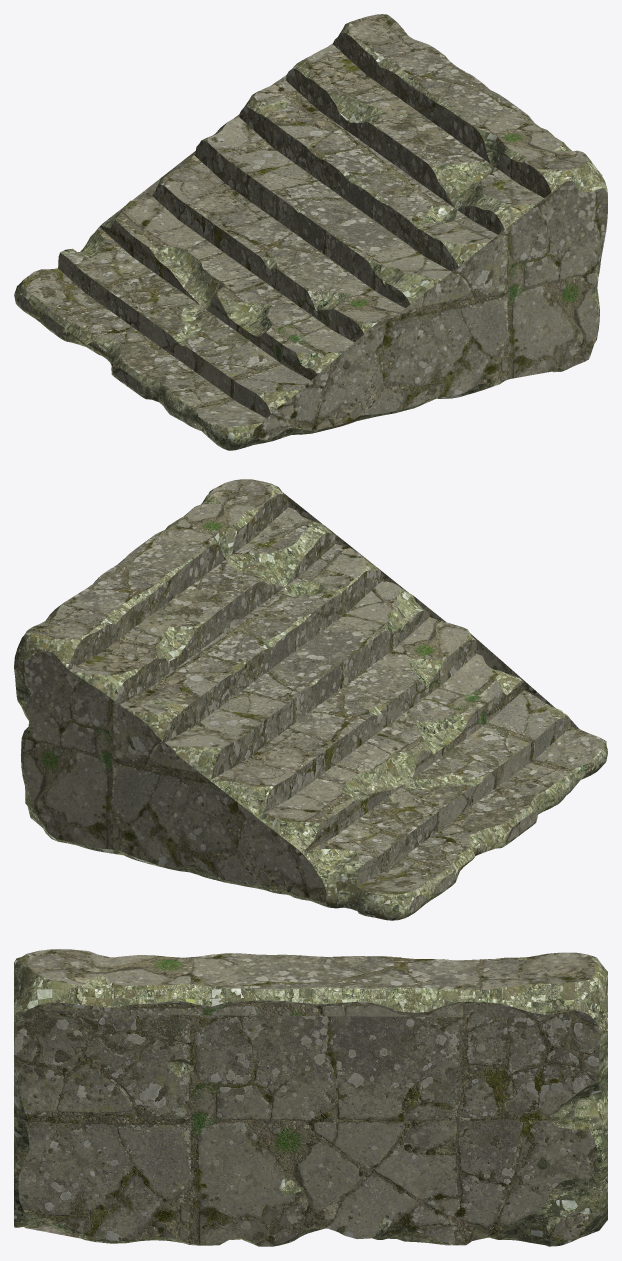
File: SM_Chateaux_02_00.fbx
3 renders of one model, top to bottom at view 1: azimuth 30°, elevation 25°; view 2: azimuth 150°, elevation 25°; view 3: azimuth 270°, elevation 25°, orthographic. The views are drawn at different scales.
Visible parts, largest first — view 1: SM_Chateaux_02_00; view 2: SM_Chateaux_02_00; view 3: SM_Chateaux_02_00.
Part boxes in pixels (x1,y1,x2,y2): SM_Chateaux_02_00: (14,14,607,450); SM_Chateaux_02_00: (14,479,607,920); SM_Chateaux_02_00: (14,949,607,1246).
Bounding box in the file's own units: 405 × 201 × 398.
